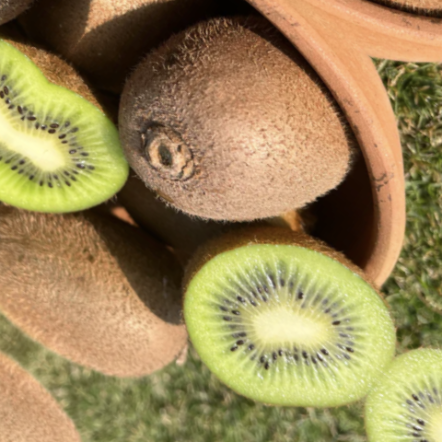kiwi: (50, 0, 404, 312), (0, 142, 249, 432)
